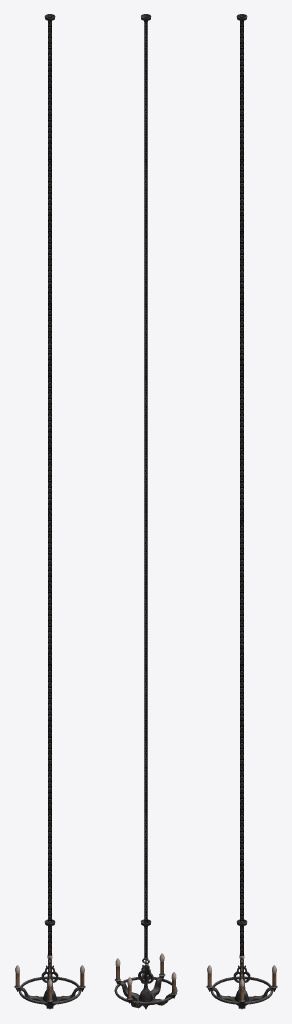
Rendered from sm35_040_entrancelight01a.fbx.
The picture shows the model from 3 angles, left to right: view 1: azimuth 90°, elevation 25°; view 2: azimuth 150°, elevation 25°; view 3: azimuth 270°, elevation 25°; orthographic projection.
Parts seen in each view (by area): view 1: LOD_1_Group_1_Sub_1__sm35_040_EntranceLight01A_B_Mat, LOD_1_Group_0_Sub_1__sm35_040_EntranceLight01A_C_Mat, LOD_1_Group_6_Sub_1__sm35_040_EntranceLight01A_B_Mat, LOD_1_Group_4_Sub_1__sm35_040_EntranceLight01A_B_Mat, LOD_1_Group_5_Sub_1__sm35_040_EntranceLight01A_B_Mat, LOD_1_Group_8_Sub_1__sm35_040_EntranceLight01A_B_Mat, LOD_1_Group_7_Sub_1__sm35_040_EntranceLight01A_B_Mat, LOD_1_Group_9_Sub_1__sm35_040_EntranceLight01A_B_Mat; view 2: LOD_1_Group_1_Sub_1__sm35_040_EntranceLight01A_B_Mat, LOD_1_Group_0_Sub_1__sm35_040_EntranceLight01A_C_Mat, LOD_1_Group_7_Sub_1__sm35_040_EntranceLight01A_B_Mat, LOD_1_Group_4_Sub_1__sm35_040_EntranceLight01A_B_Mat, LOD_1_Group_5_Sub_1__sm35_040_EntranceLight01A_B_Mat, LOD_1_Group_8_Sub_1__sm35_040_EntranceLight01A_B_Mat, LOD_1_Group_9_Sub_1__sm35_040_EntranceLight01A_B_Mat, LOD_1_Group_6_Sub_1__sm35_040_EntranceLight01A_B_Mat; view 3: LOD_1_Group_1_Sub_1__sm35_040_EntranceLight01A_B_Mat, LOD_1_Group_0_Sub_1__sm35_040_EntranceLight01A_C_Mat, LOD_1_Group_9_Sub_1__sm35_040_EntranceLight01A_B_Mat, LOD_1_Group_6_Sub_1__sm35_040_EntranceLight01A_B_Mat, LOD_1_Group_8_Sub_1__sm35_040_EntranceLight01A_B_Mat, LOD_1_Group_4_Sub_1__sm35_040_EntranceLight01A_B_Mat, LOD_1_Group_5_Sub_1__sm35_040_EntranceLight01A_B_Mat, LOD_1_Group_7_Sub_1__sm35_040_EntranceLight01A_B_Mat.
Part boxes in pixels (bbox=[...]): LOD_1_Group_1_Sub_1__sm35_040_EntranceLight01A_B_Mat: bbox=[48, 16, 51, 955]; LOD_1_Group_0_Sub_1__sm35_040_EntranceLight01A_C_Mat: bbox=[14, 919, 85, 1009]; LOD_1_Group_6_Sub_1__sm35_040_EntranceLight01A_B_Mat: bbox=[48, 232, 51, 305]; LOD_1_Group_4_Sub_1__sm35_040_EntranceLight01A_B_Mat: bbox=[48, 88, 51, 161]; LOD_1_Group_5_Sub_1__sm35_040_EntranceLight01A_B_Mat: bbox=[48, 160, 51, 233]; LOD_1_Group_8_Sub_1__sm35_040_EntranceLight01A_B_Mat: bbox=[48, 377, 51, 450]; LOD_1_Group_7_Sub_1__sm35_040_EntranceLight01A_B_Mat: bbox=[48, 306, 51, 378]; LOD_1_Group_9_Sub_1__sm35_040_EntranceLight01A_B_Mat: bbox=[48, 450, 51, 521]; LOD_1_Group_1_Sub_1__sm35_040_EntranceLight01A_B_Mat: bbox=[144, 15, 147, 958]; LOD_1_Group_0_Sub_1__sm35_040_EntranceLight01A_C_Mat: bbox=[114, 919, 177, 1009]; LOD_1_Group_7_Sub_1__sm35_040_EntranceLight01A_B_Mat: bbox=[144, 306, 147, 381]; LOD_1_Group_4_Sub_1__sm35_040_EntranceLight01A_B_Mat: bbox=[144, 89, 147, 164]; LOD_1_Group_5_Sub_1__sm35_040_EntranceLight01A_B_Mat: bbox=[144, 162, 147, 236]; LOD_1_Group_8_Sub_1__sm35_040_EntranceLight01A_B_Mat: bbox=[144, 378, 147, 453]; LOD_1_Group_9_Sub_1__sm35_040_EntranceLight01A_B_Mat: bbox=[144, 449, 147, 525]; LOD_1_Group_6_Sub_1__sm35_040_EntranceLight01A_B_Mat: bbox=[144, 233, 147, 308]; LOD_1_Group_1_Sub_1__sm35_040_EntranceLight01A_B_Mat: bbox=[240, 16, 243, 955]; LOD_1_Group_0_Sub_1__sm35_040_EntranceLight01A_C_Mat: bbox=[206, 919, 277, 1009]; LOD_1_Group_9_Sub_1__sm35_040_EntranceLight01A_B_Mat: bbox=[240, 449, 243, 522]; LOD_1_Group_6_Sub_1__sm35_040_EntranceLight01A_B_Mat: bbox=[240, 233, 243, 306]; LOD_1_Group_8_Sub_1__sm35_040_EntranceLight01A_B_Mat: bbox=[240, 377, 243, 450]; LOD_1_Group_4_Sub_1__sm35_040_EntranceLight01A_B_Mat: bbox=[240, 89, 243, 161]; LOD_1_Group_5_Sub_1__sm35_040_EntranceLight01A_B_Mat: bbox=[240, 160, 243, 233]; LOD_1_Group_7_Sub_1__sm35_040_EntranceLight01A_B_Mat: bbox=[240, 306, 243, 378].
Size of the model in its own units: 0.5198 by 7.99 by 0.5198.
